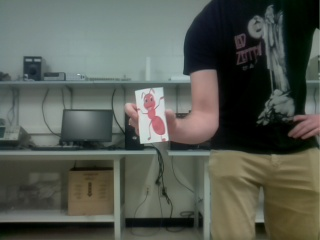Happy: (136, 88, 167, 143)
